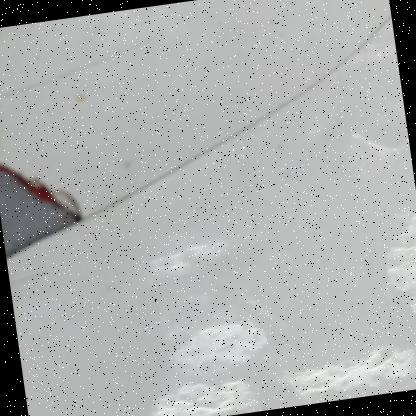Crack: (0, 0, 415, 278)
